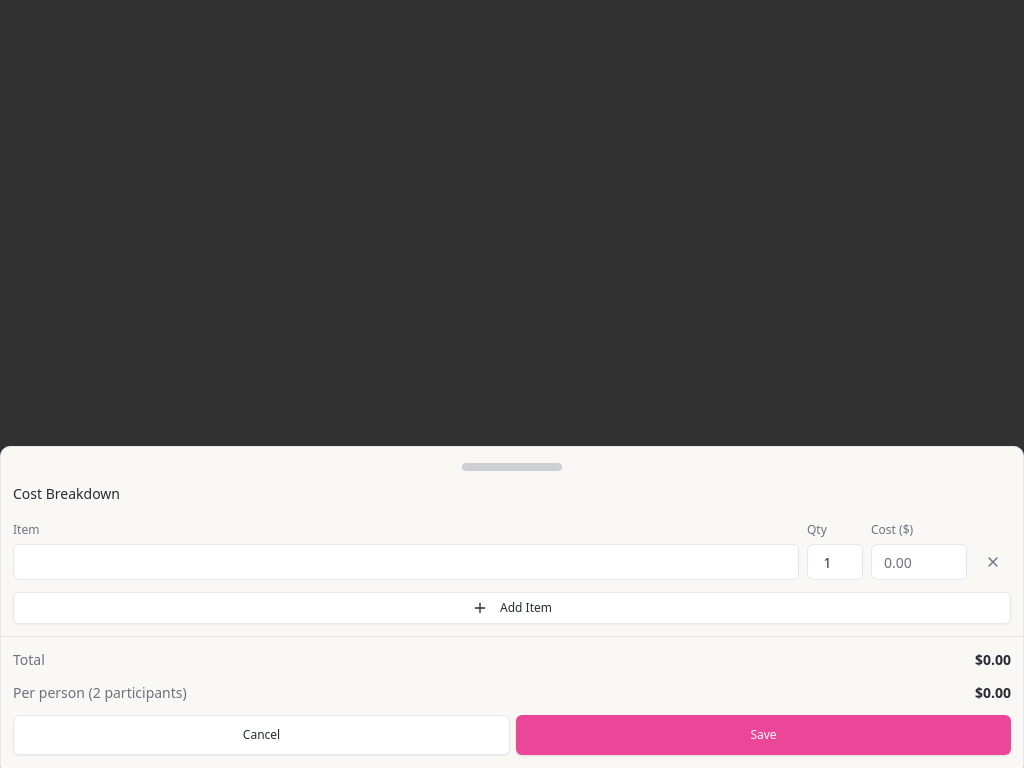
CostCalculatorDrawer › multiplies quantity by cost in total
The width and height of the screenshot is (1024, 768).
In the field: (406, 562) [13, 544, 799, 580], type "Balls"
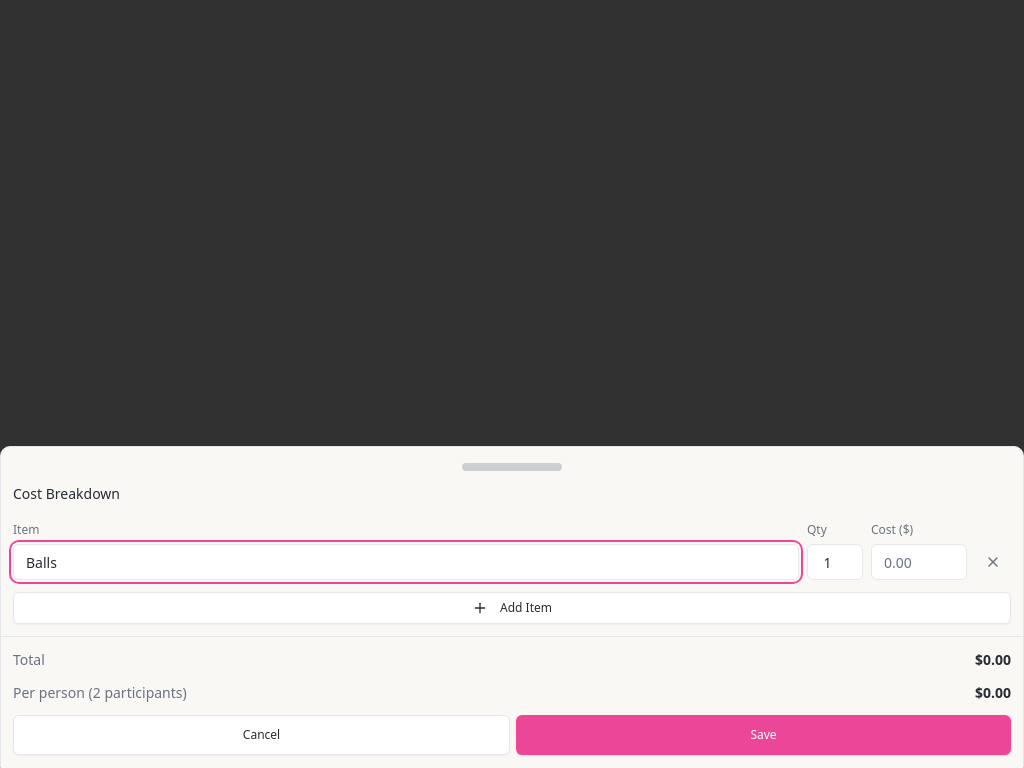
// Clear default quantity of 1, type 3
Replace the text in the number field showing "1" with "3": (835, 562) [807, 544, 863, 580]
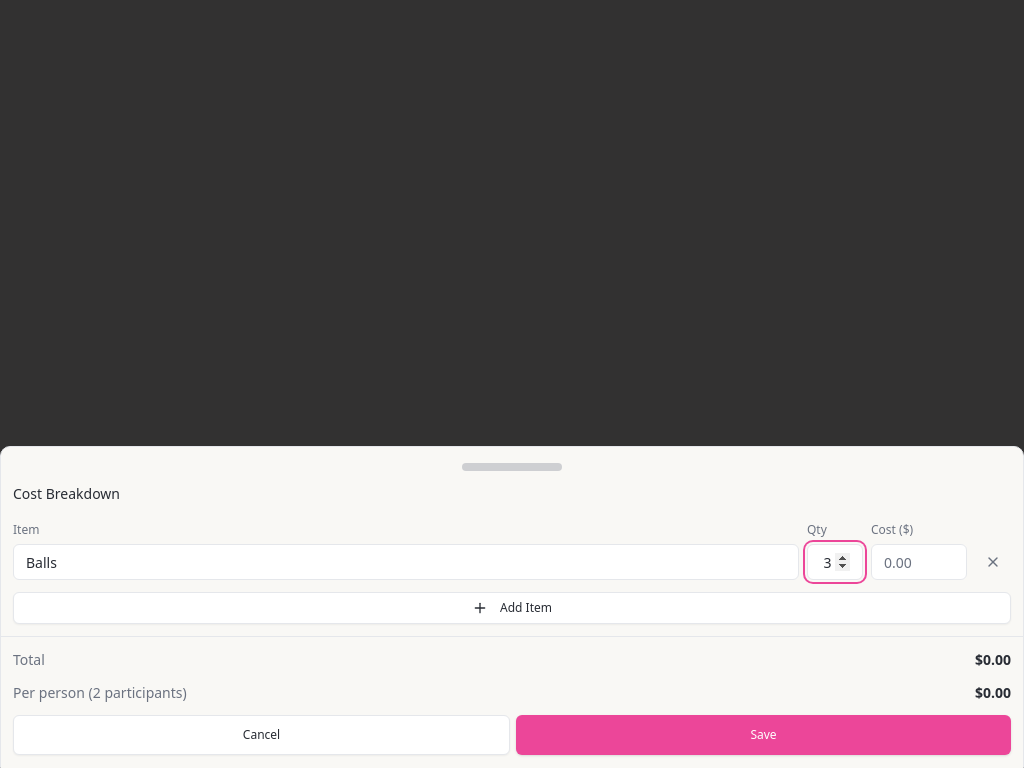
In the number field with placeholder "0.00": (919, 562) [871, 544, 967, 580], type "50"
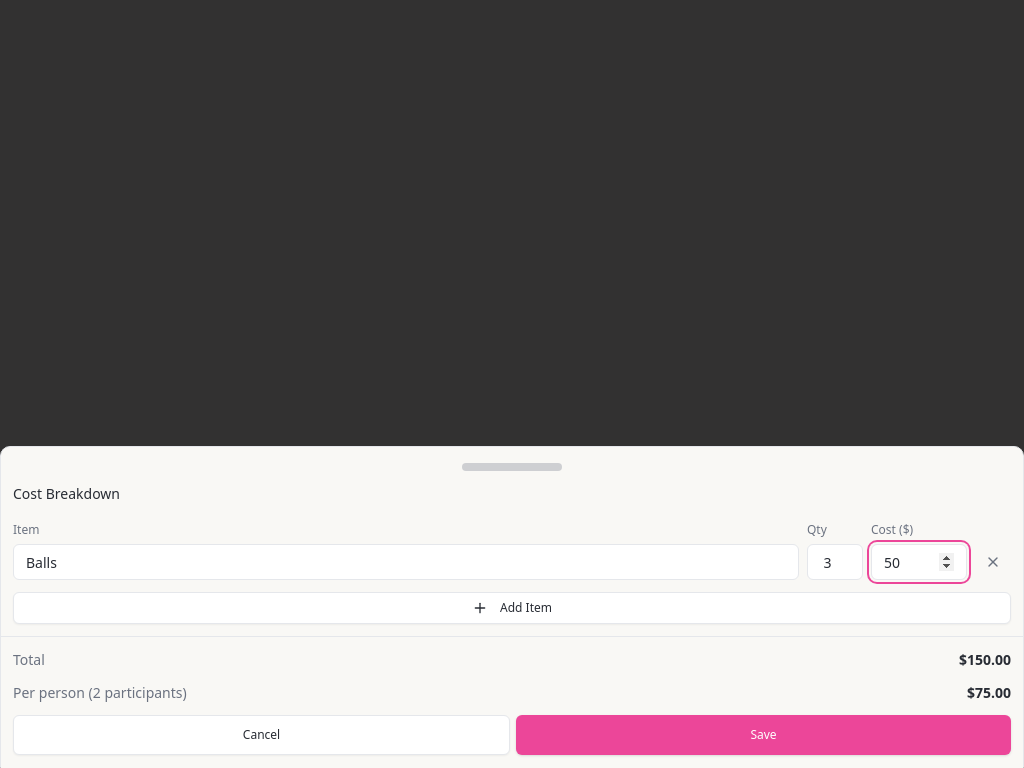
Check: the text "$150.00" is shown, box [959, 649, 1011, 670]
Check: the text "$75.00" is shown, box [967, 682, 1011, 703]
